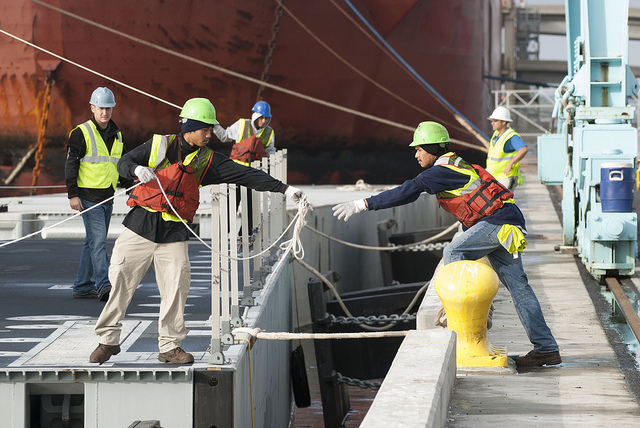epi: (357, 120, 545, 369), (117, 94, 221, 353), (60, 83, 122, 295), (481, 104, 530, 186), (224, 99, 281, 165)
